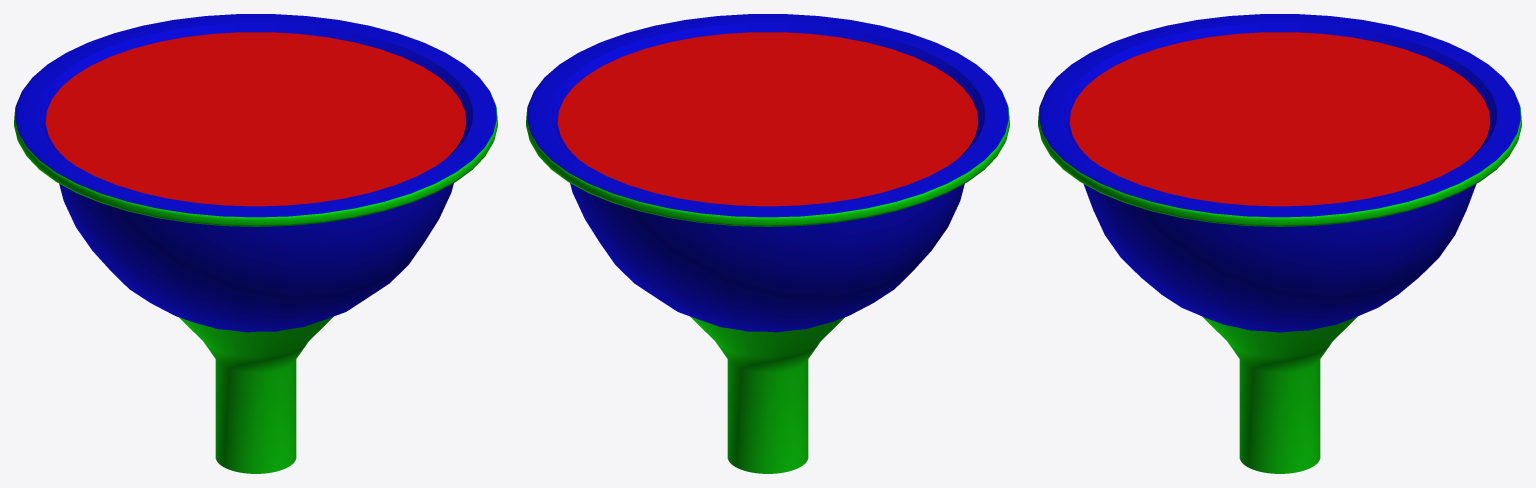
File: SM_ProjectorTable_02.fbx
3 views of the same model, side by side, from view 1: azimuth 30°, elevation 25°; view 2: azimuth 150°, elevation 25°; view 3: azimuth 270°, elevation 25° (orthographic).
Parts seen in each view (by area): view 1: pCylinder3; view 2: pCylinder3; view 3: pCylinder3.
Boxes of the visible parts, x1=… form: pCylinder3: x1=14, y1=14, x2=497, y2=473; pCylinder3: x1=526, y1=14, x2=1009, y2=473; pCylinder3: x1=1038, y1=14, x2=1521, y2=473.
Bounding box in the file's own units: 129 × 101 × 129.
